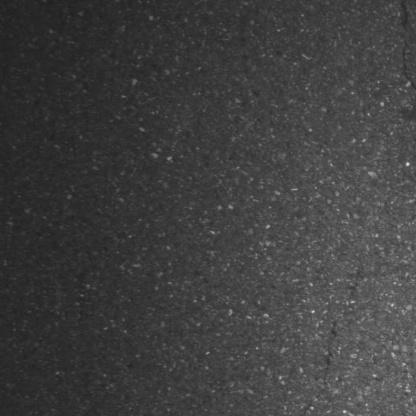Cracks: (399, 38, 416, 120), (322, 319, 342, 374), (399, 0, 416, 36), (295, 396, 318, 416)
